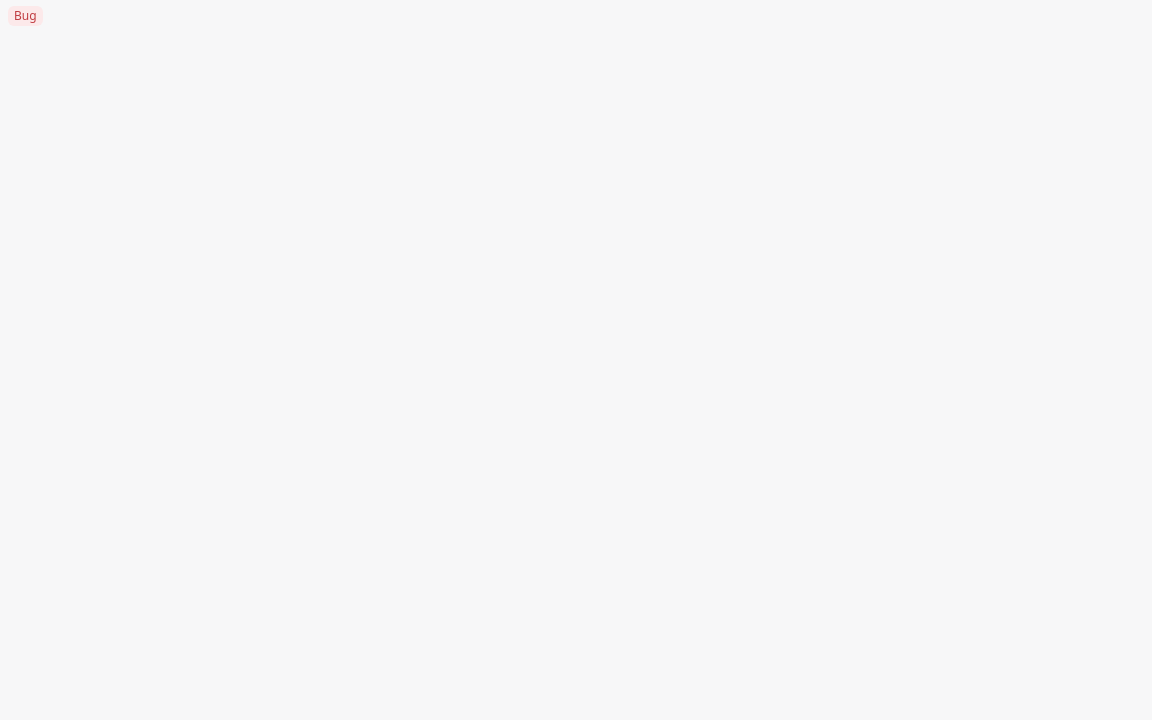
Test: LabelField › shows the server duplicate-name error inline and restores the text
The width and height of the screenshot is (1152, 720).
Click the button "Bug" at (28, 26), box [0, 0, 1151, 32]
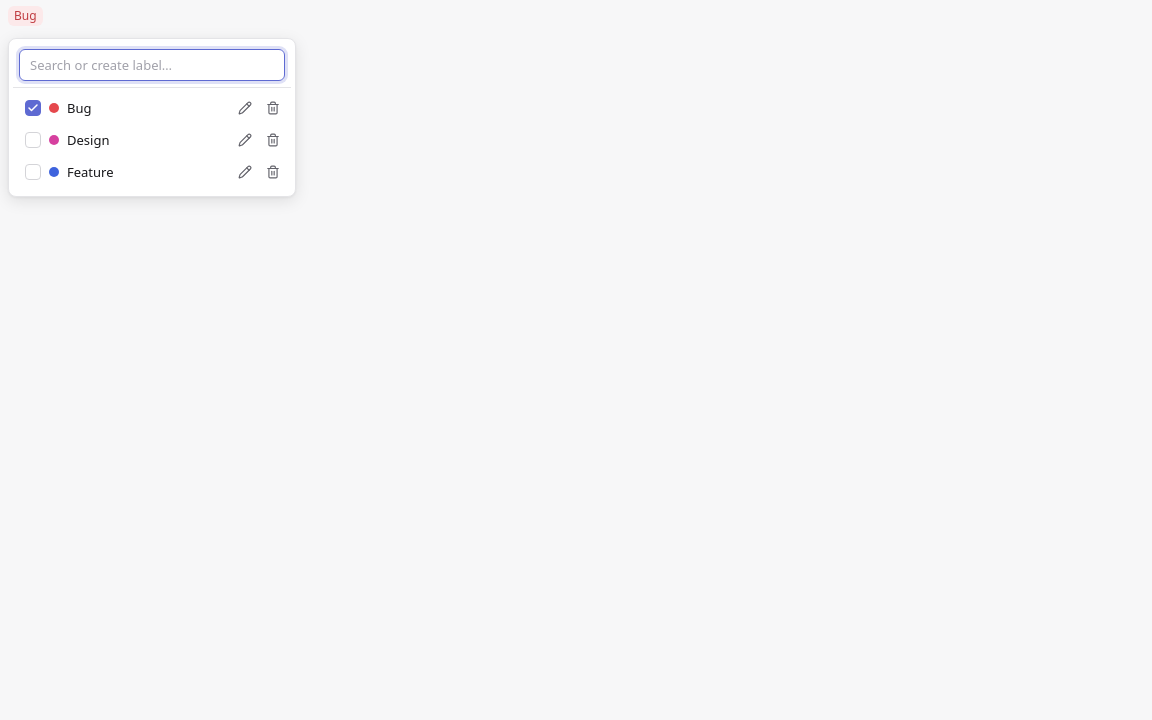
Type "Docs" into the field labelled "Search or create label" at (152, 65), box [19, 49, 285, 81]
Then press Enter
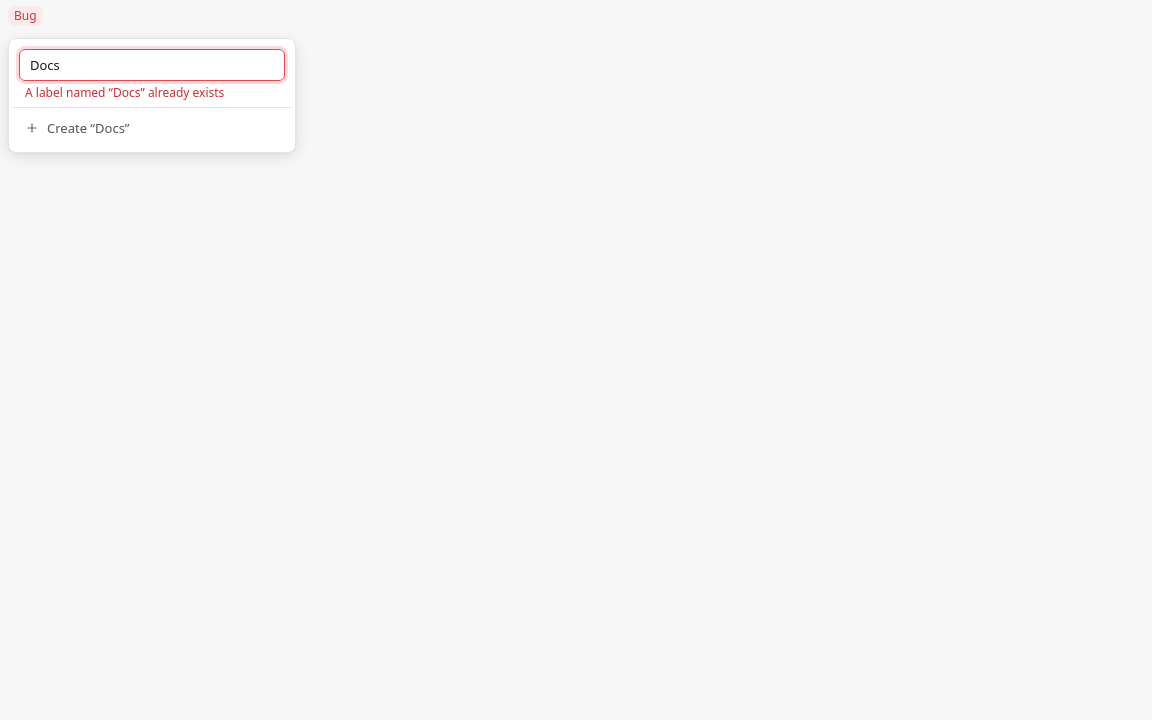
Expected: the message reads "A label named “Docs” already exists", [25, 84, 224, 101]
